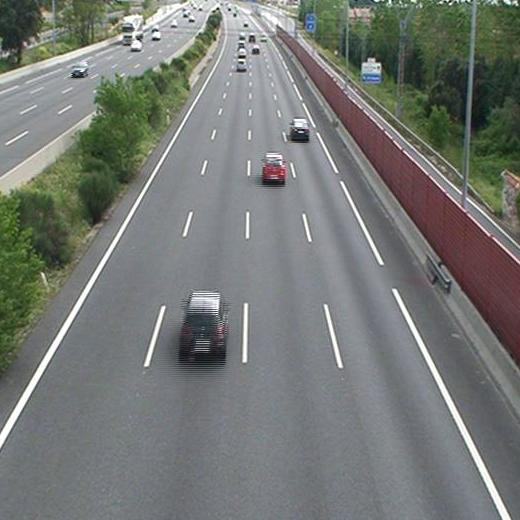car: (181, 293, 226, 352), (263, 154, 284, 181), (290, 119, 309, 137), (235, 60, 246, 71), (237, 48, 246, 57), (251, 45, 260, 53)
